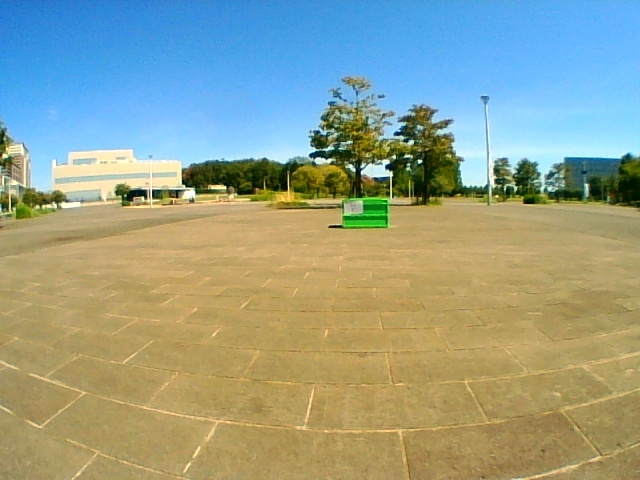green_box: (342, 197, 387, 227)
tag: (344, 201, 362, 214)
